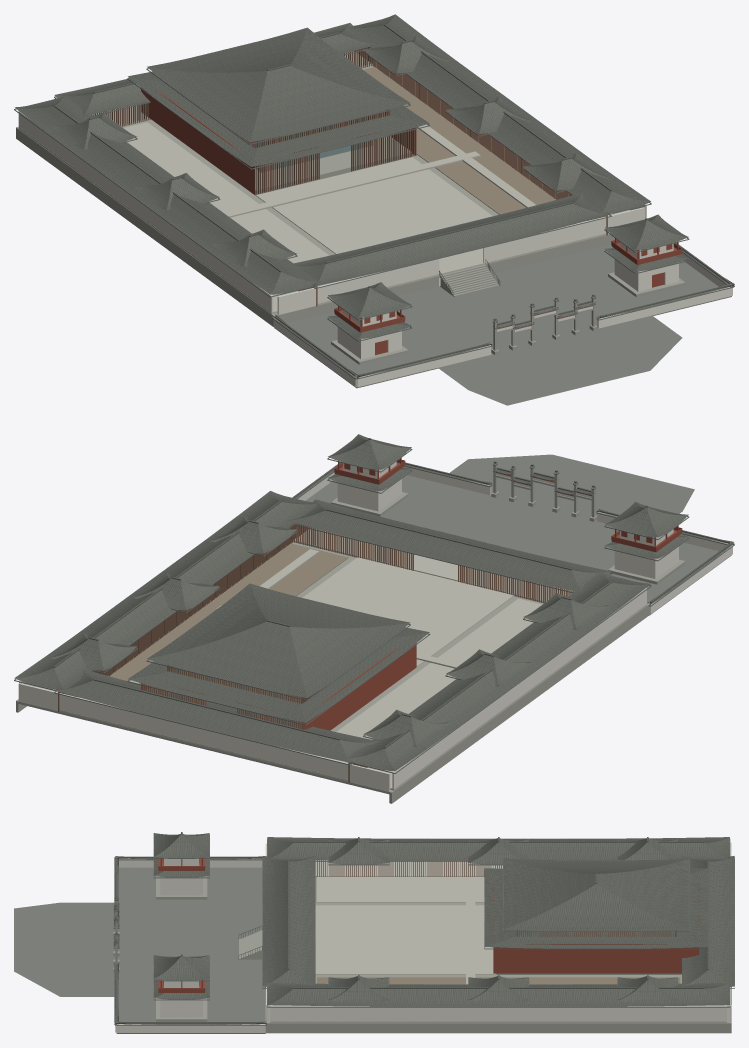
The model's file is shangqing-study.glb.
3 views of the same model, one above another, from view 1: azimuth 30°, elevation 25°; view 2: azimuth 150°, elevation 25°; view 3: azimuth 270°, elevation 25° (orthographic). The views are drawn at different scales.
Parts seen in each view (by area): view 1: 1990s front court paving, main hipped roof, central court, south apron, west exhibition gallery roof, east open archaeology gallery roof, gallery accent roof, south entry gallery roof, main lower eaves, east archaeology extent - details pending, west marking court, south white gallery wall (+24 smaller); view 2: main hipped roof, 1990s front court paving, west exhibition gallery roof, central court, east open archaeology gallery roof, gallery accent roof, south entry gallery roof, south apron, north return gallery roof, main lower eaves, north white gallery wall, west marking court (+25 smaller); view 3: 1990s front court paving, main hipped roof, central court, south apron, east open archaeology gallery roof, west exhibition gallery roof, outer white gallery wall, gallery accent roof, south entry gallery roof, main lower eaves, main hall red side cladding, outer retaining wall (+28 smaller).
Part boxes in pixels (x1=…): 1990s front court paving: x1=274, y1=244, x2=731, y2=388; main hipped roof: x1=147, y1=27, x2=410, y2=142; central court: x1=255, y1=157, x2=492, y2=253; south apron: x1=438, y1=315, x2=682, y2=405; west exhibition gallery roof: x1=15, y1=95, x2=320, y2=294; east open archaeology gallery roof: x1=345, y1=14, x2=650, y2=213; gallery accent roof: x1=50, y1=36, x2=609, y2=266; south entry gallery roof: x1=286, y1=192, x2=610, y2=286; main lower eaves: x1=128, y1=71, x2=429, y2=166; east archaeology extent - details pending: x1=363, y1=67, x2=556, y2=214; west marking court: x1=123, y1=122, x2=329, y2=263; south white gallery wall: x1=277, y1=207, x2=644, y2=314; main hipped roof: x1=147, y1=583, x2=410, y2=697; 1990s front court paving: x1=305, y1=475, x2=731, y2=615; west exhibition gallery roof: x1=345, y1=571, x2=650, y2=771; central court: x1=302, y1=557, x2=514, y2=667; east open archaeology gallery roof: x1=14, y1=491, x2=320, y2=690; gallery accent roof: x1=50, y1=516, x2=609, y2=747; south entry gallery roof: x1=286, y1=499, x2=611, y2=592; south apron: x1=449, y1=454, x2=694, y2=520; north return gallery roof: x1=54, y1=669, x2=378, y2=762; main lower eaves: x1=128, y1=627, x2=429, y2=722; north white gallery wall: x1=18, y1=683, x2=390, y2=791; west marking court: x1=336, y1=598, x2=541, y2=739; 1990s front court paving: x1=116, y1=867, x2=265, y2=1033; main hipped roof: x1=503, y1=858, x2=689, y2=931; central court: x1=315, y1=905, x2=496, y2=974; south apron: x1=14, y1=902, x2=115, y2=996; east open archaeology gallery roof: x1=267, y1=982, x2=729, y2=1006; west exhibition gallery roof: x1=267, y1=837, x2=729, y2=860; outer white gallery wall: x1=270, y1=1006, x2=726, y2=1021; gallery accent roof: x1=328, y1=838, x2=677, y2=1002; south entry gallery roof: x1=262, y1=856, x2=315, y2=987; main lower eaves: x1=484, y1=868, x2=708, y2=948; main hall red side cladding: x1=494, y1=943, x2=698, y2=973; outer retaining wall: x1=265, y1=1022, x2=731, y2=1033.
Bounding box in the file's own units: 85.4 × 17.3 × 155.
10 materials, 1 textured.
